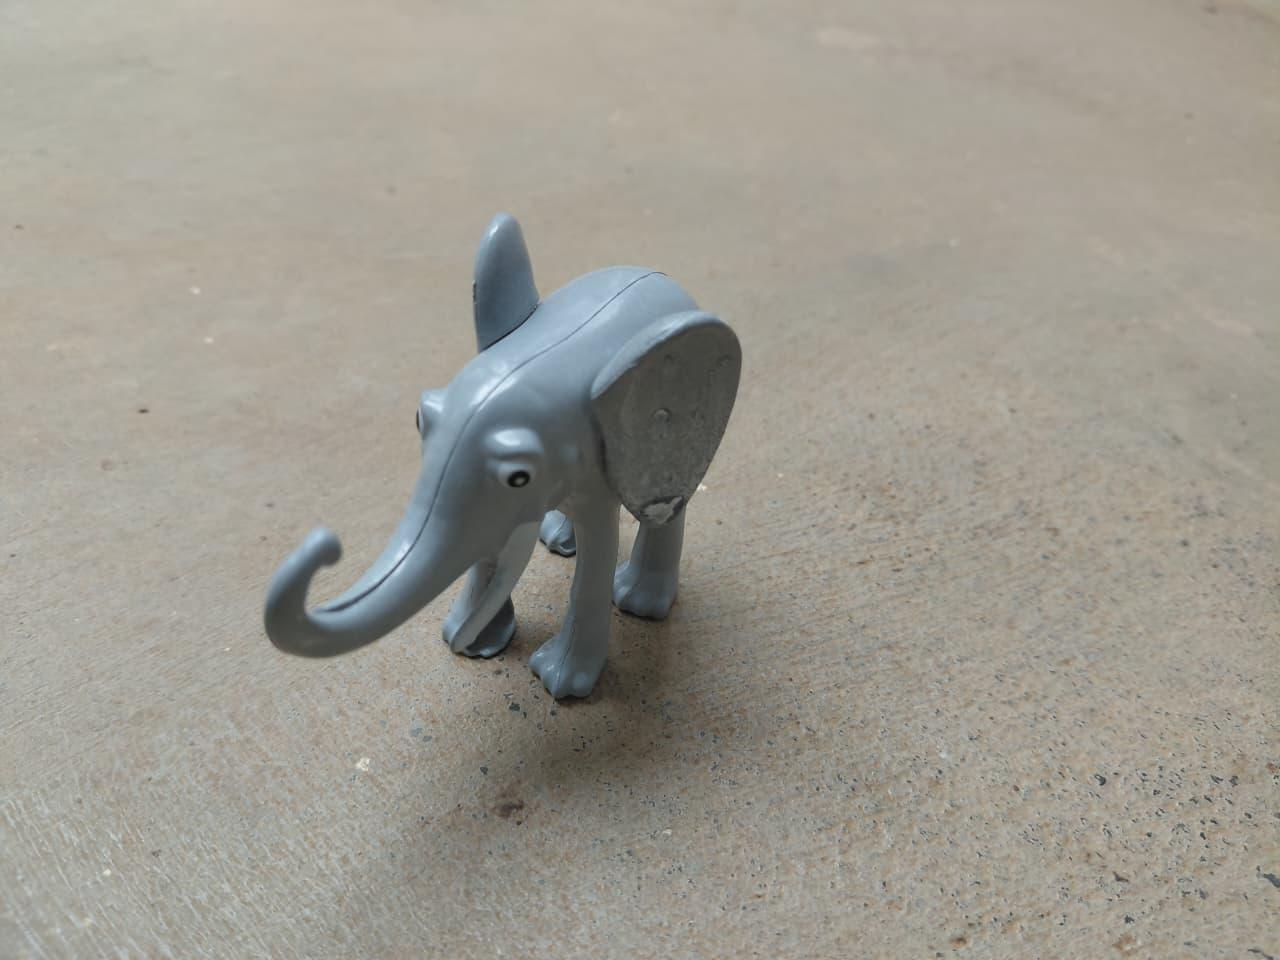elephant: (256, 205, 747, 724)
